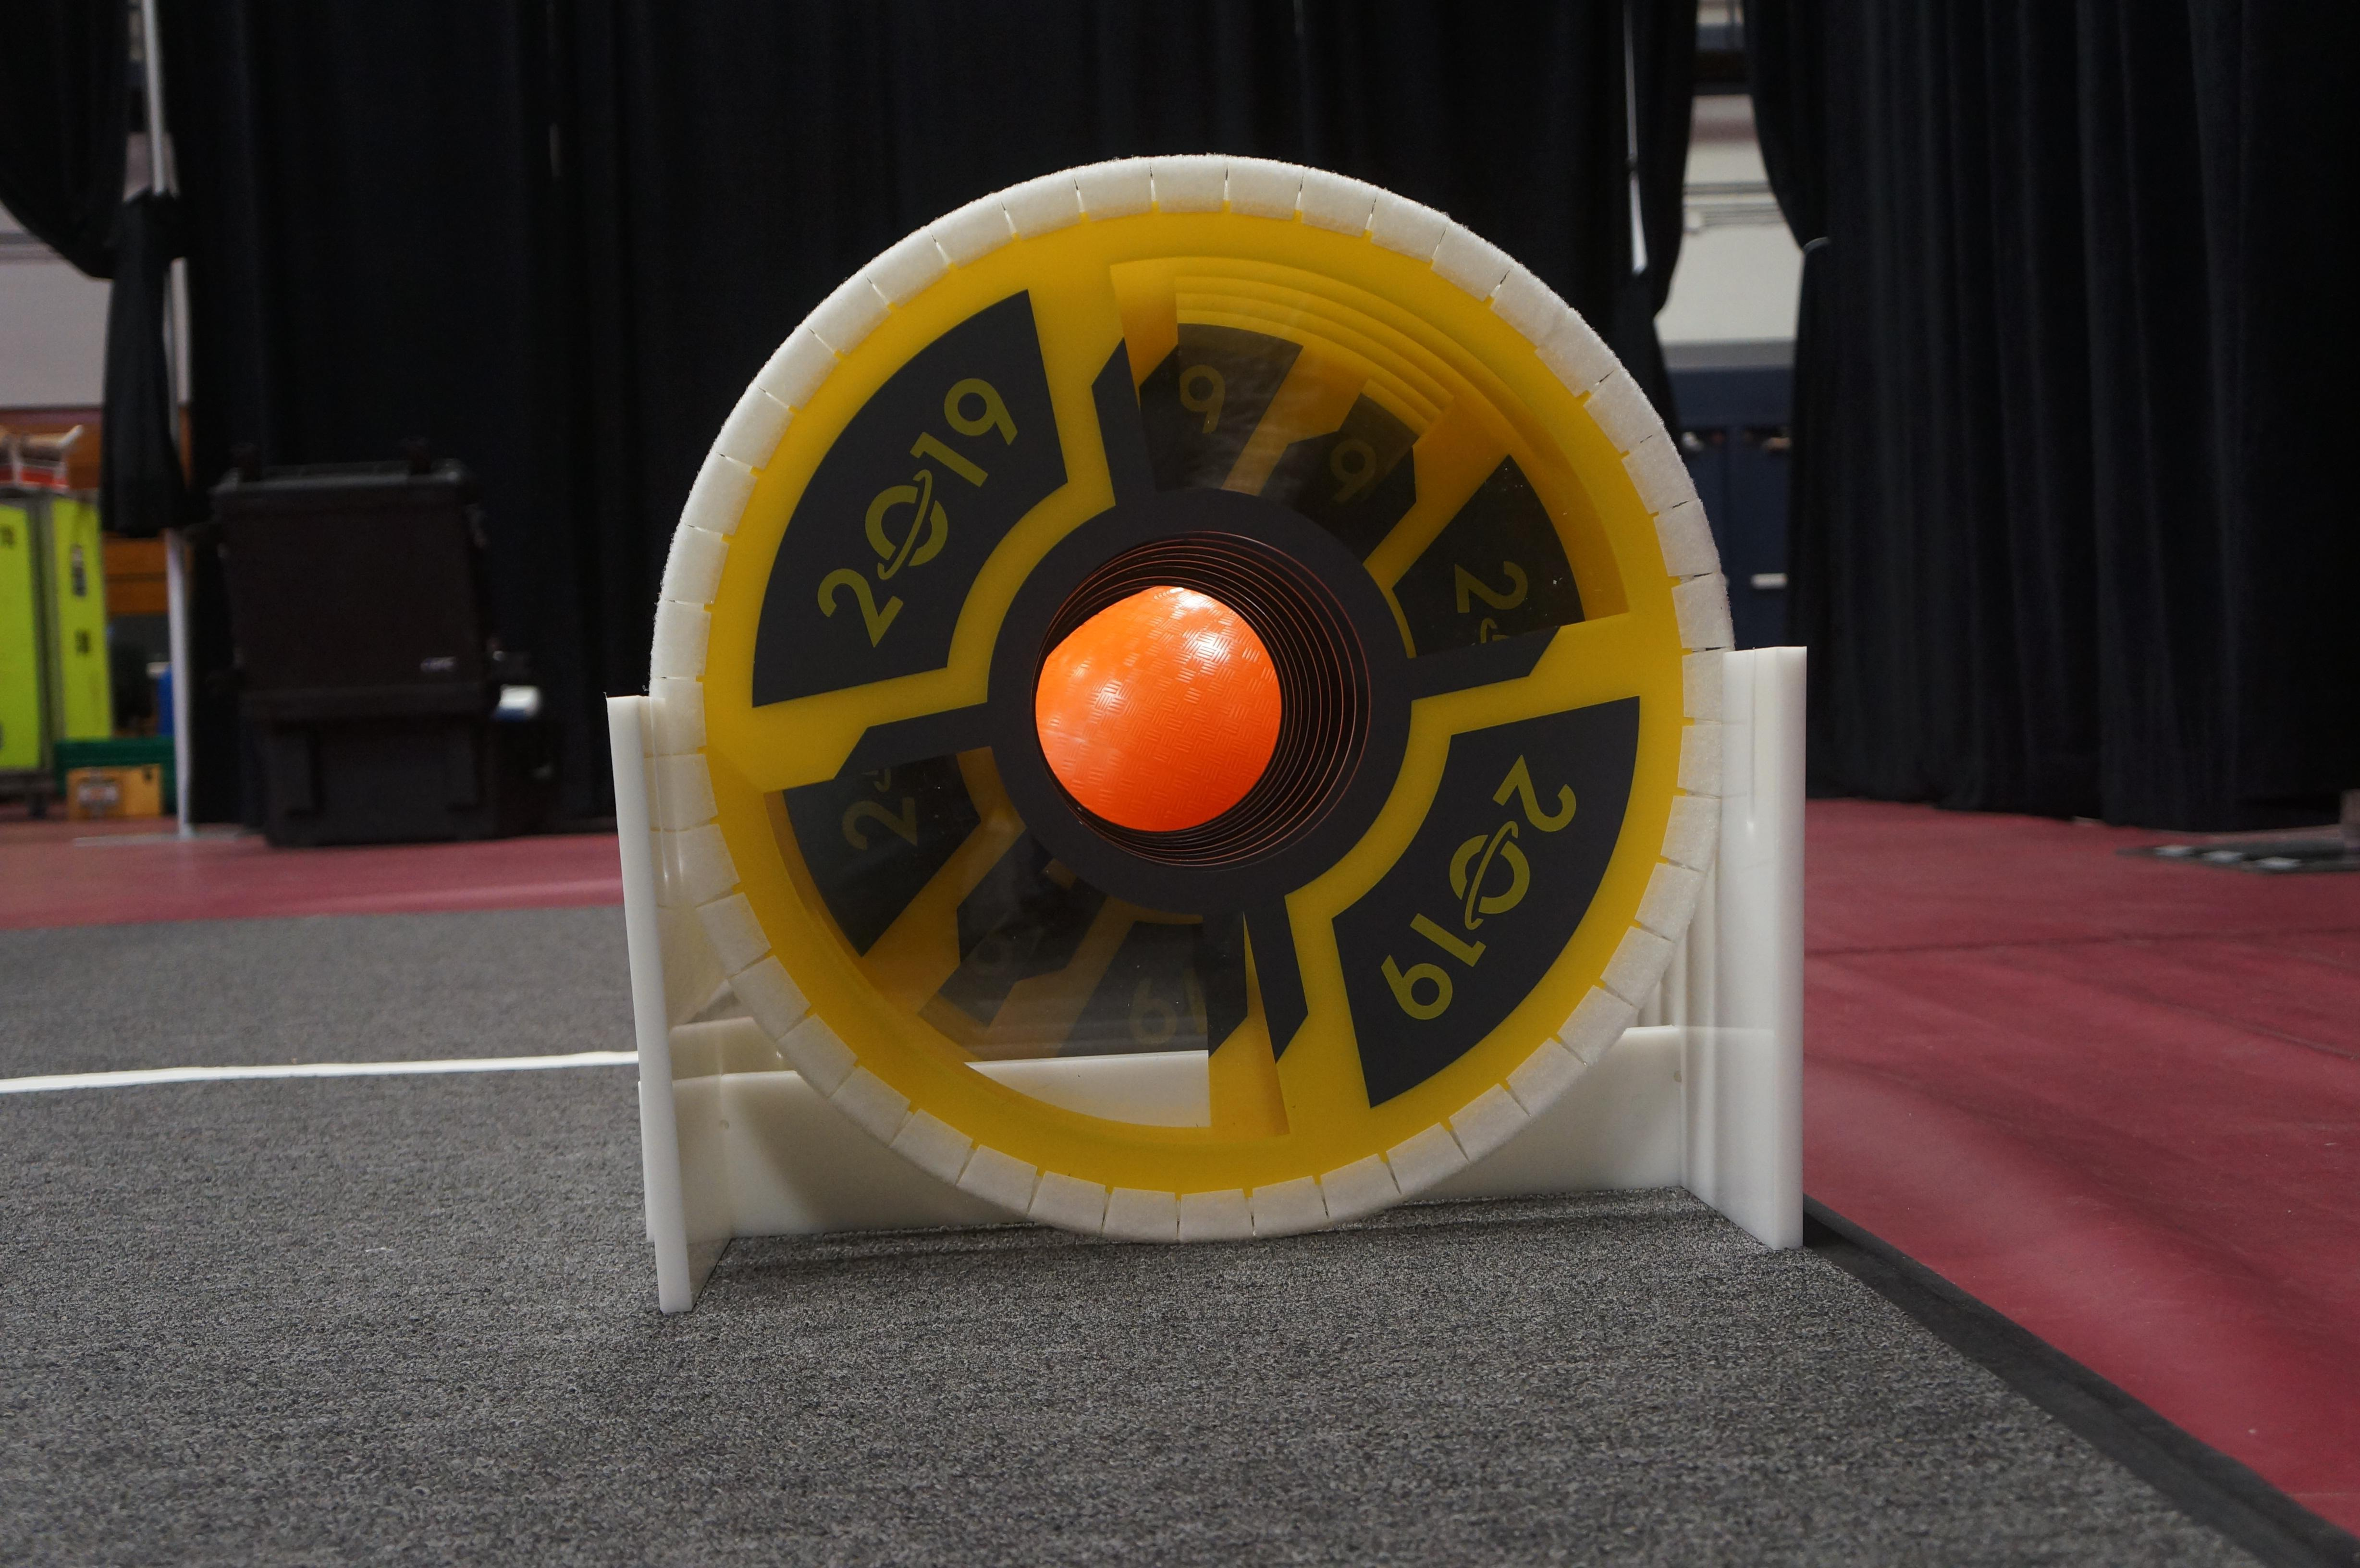Ball: (1027, 579, 1300, 840)
Hatch: (647, 150, 1732, 1246)
